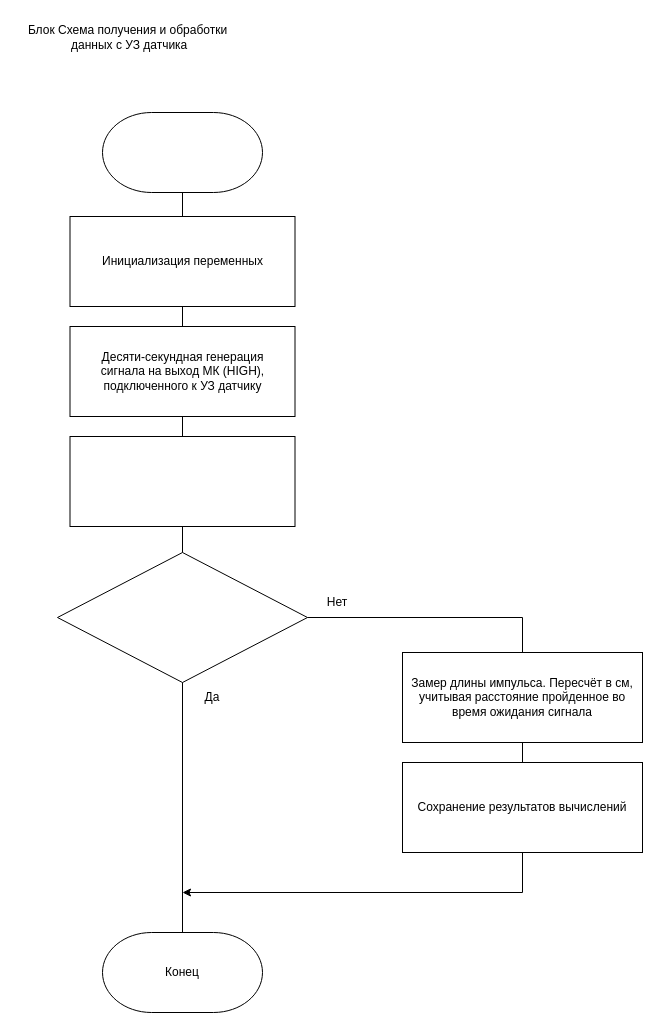
Some shapes in this 660 by 1030 pixel diagram are drawn without their labels. The box of each missing label's shape, as (x1, y1, x2, y2) in pixels:
Начало: (102, 112, 262, 192)
Сигнал отсутствует: (56, 552, 308, 682)
Чтение данных, принимаемые с УЗ датчика: (69, 436, 295, 526)
